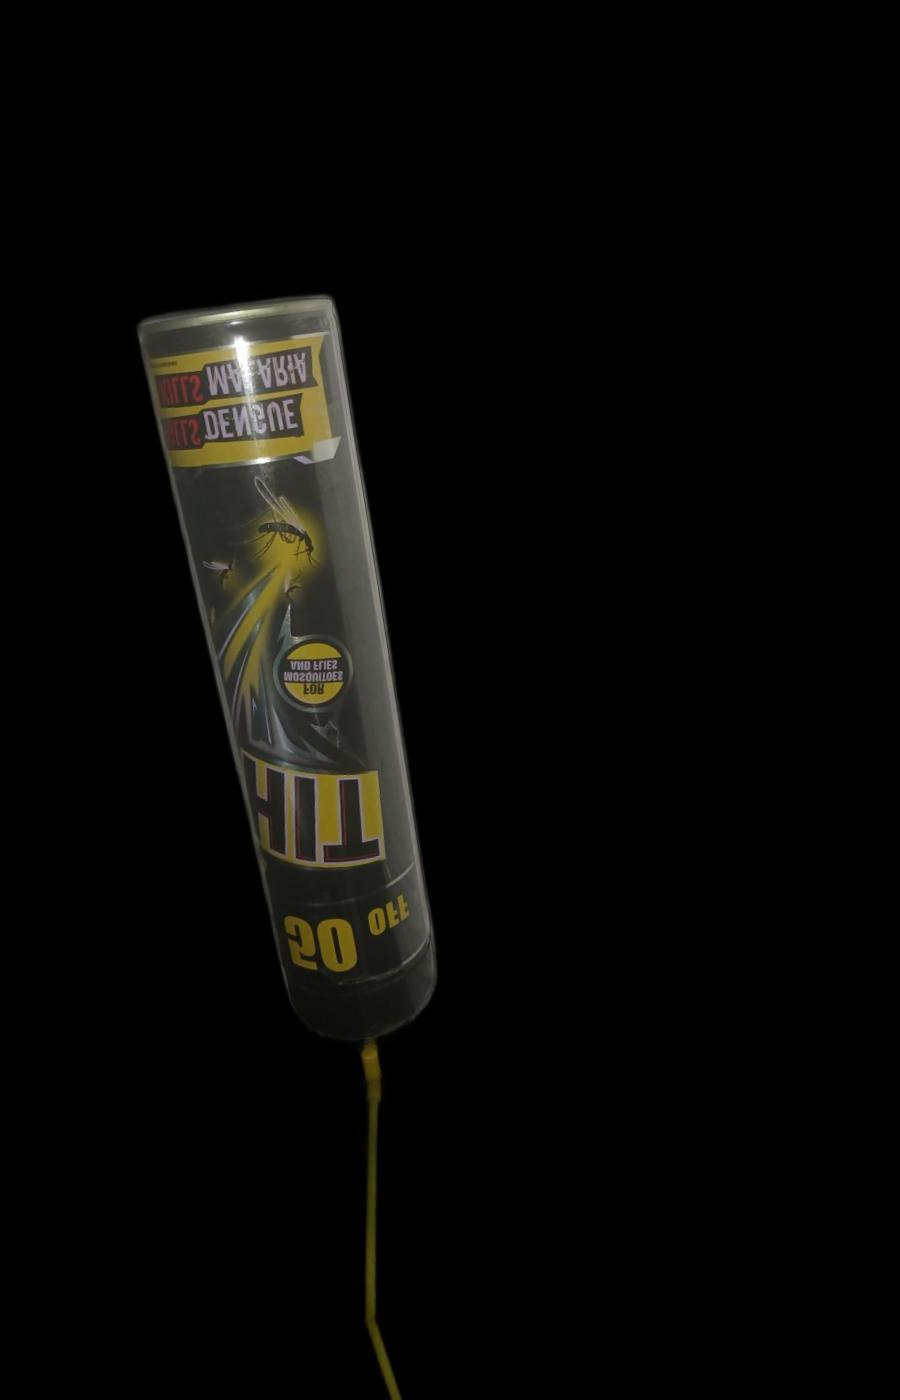HIT Mosquito - Fly Killer Spray700 ml: (129, 271, 477, 1062)
